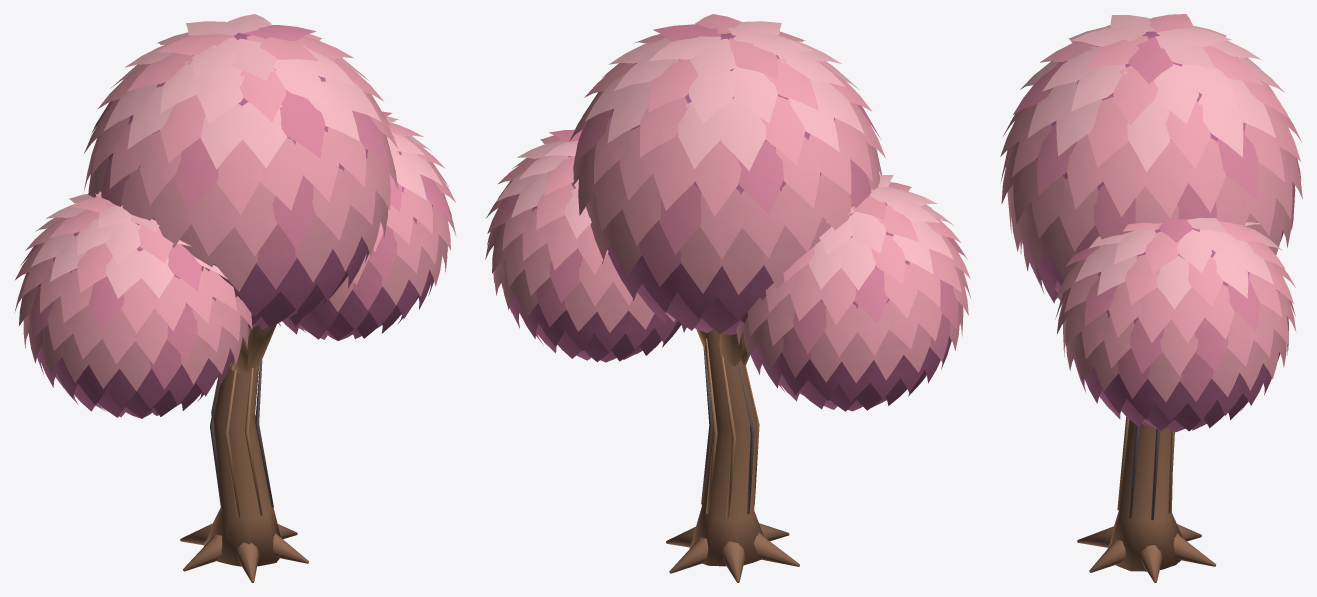
The model's file is SM_SF_PinkTree_01.fbx.
3 renders of one model, left to right at view 1: azimuth 30°, elevation 25°; view 2: azimuth 150°, elevation 25°; view 3: azimuth 270°, elevation 25°, orthographic.
Visible parts, largest first — view 1: SM_SF_PinkTree_01; view 2: SM_SF_PinkTree_01; view 3: SM_SF_PinkTree_01.
Boxes of the visible parts, x1=… form: SM_SF_PinkTree_01: x1=14, y1=14, x2=456, y2=582; SM_SF_PinkTree_01: x1=485, y1=14, x2=971, y2=582; SM_SF_PinkTree_01: x1=1000, y1=14, x2=1302, y2=582.
Size of the model in its own units: 5.32 by 3.22 by 6.1.
